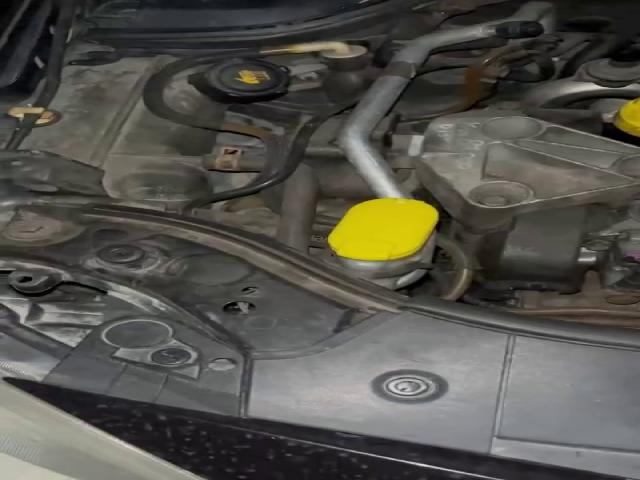antifreeze_tank: (20, 55, 232, 202), (163, 59, 289, 120)
